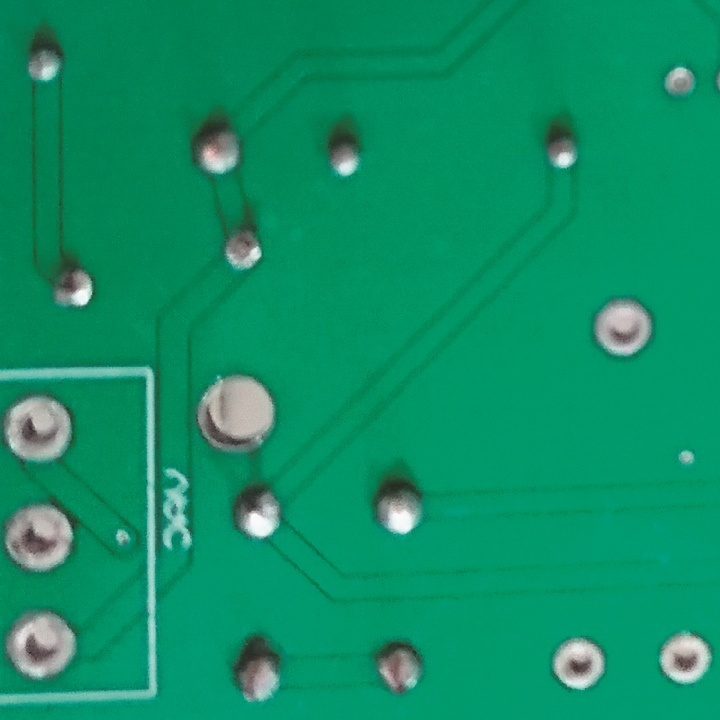F: (1, 392, 79, 470), (1, 607, 82, 682), (1, 501, 77, 575), (590, 293, 656, 364), (548, 635, 613, 693), (654, 627, 714, 689), (661, 62, 702, 103)
